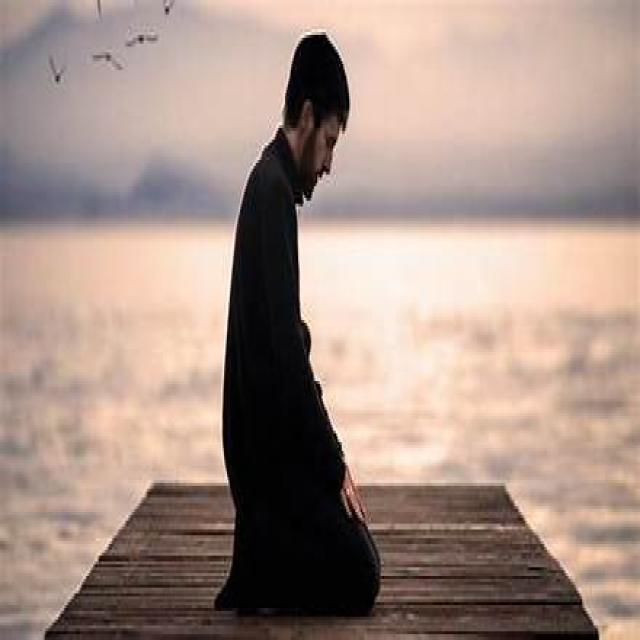9_cabeza_baja: (283, 35, 350, 207)
